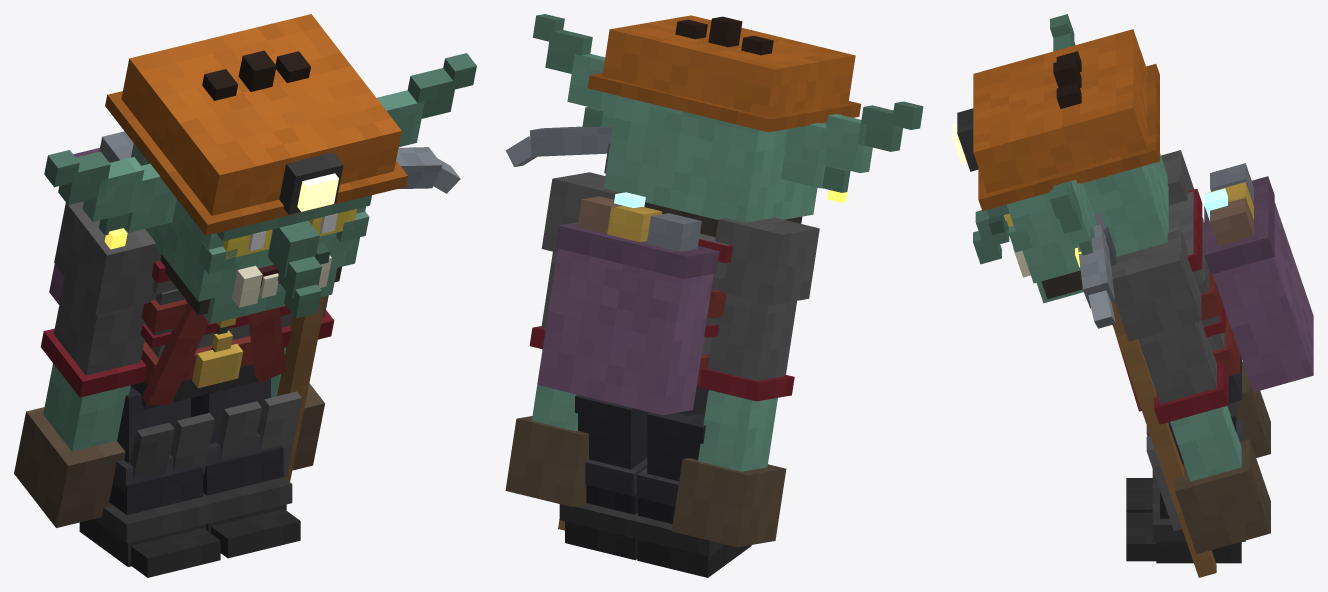
The model's file is goblin_mineur.glb.
The picture shows the model from 3 angles, left to right: view 1: azimuth 30°, elevation 25°; view 2: azimuth 150°, elevation 25°; view 3: azimuth 270°, elevation 25°; orthographic projection. The views are drawn at different scales.
Visible parts, largest first — view 1: Head, ArmR, Torso, LegR, LegL, HandL, ArmL; view 2: Head, Torso, ArmR, ArmL, LegL, LegR, HandL; view 3: Head, ArmL, Torso, HandL, LegL, ArmR, LegR.
Boxes of the visible parts, box(x1,y1,x2,y2) form: Head: box(44, 14, 476, 323); ArmR: box(14, 201, 161, 527); Torso: box(49, 131, 301, 481); LegR: box(79, 387, 220, 577); LegL: box(191, 378, 300, 558); HandL: box(277, 147, 460, 481); ArmL: box(271, 295, 334, 470); Head: box(533, 14, 923, 236); Torso: box(537, 192, 732, 415); ArmR: box(671, 217, 819, 547); ArmL: box(505, 172, 621, 506); LegL: box(559, 394, 649, 560); LegR: box(632, 412, 751, 577); HandL: box(505, 126, 612, 530); Head: box(952, 14, 1168, 303); ArmL: box(1111, 229, 1270, 554); Torso: box(1116, 163, 1313, 531); HandL: box(1077, 213, 1216, 577); LegL: box(1126, 402, 1245, 563); ArmR: box(1161, 150, 1270, 457); LegR: box(1126, 420, 1243, 512).
Size of the model in its own units: 1.12 by 1.33 by 0.9227.
49 materials, 49 textured.
